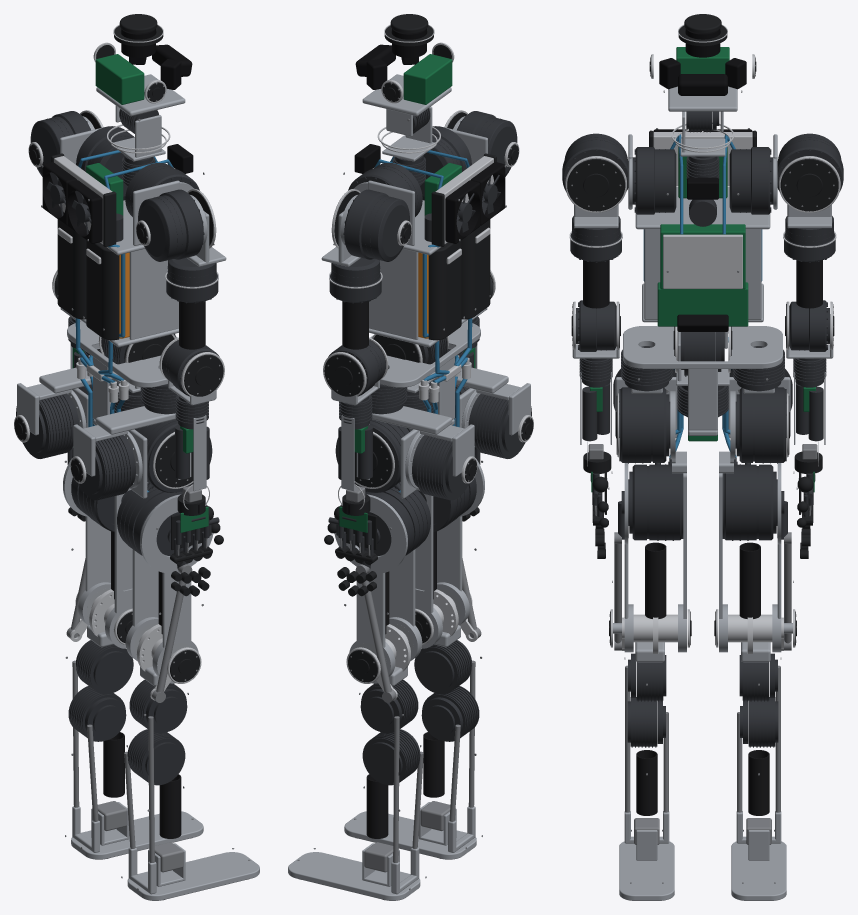
File: kestrel_k1_interior.glb
3 views of the same model, side by side, from view 1: azimuth 30°, elevation 25°; view 2: azimuth 150°, elevation 25°; view 3: azimuth 270°, elevation 25° (orthographic).
Visible parts, largest first — view 1: r_shoulder__act_shoulder_roll_KH25, r_thigh__frame_thigh_plate_lateral, torso__frame_battery_rail_R, r_foot__frame_foot_plate, torso__joint_battery_endcap_R, pelvis__frame_pelvis_bowl, r_hip__act_hip_roll_KA110P, l_thigh__frame_thigh_plate_lateral, torso__joint_battery_endcap_L, r_hip__frame_yaw_roll_yoke, l_hip__act_hip_roll_KA110P, l_shank__act_ankle_B_KA90P (+59 smaller); view 2: l_shoulder__act_shoulder_roll_KH25, l_thigh__frame_thigh_plate_lateral, torso__frame_battery_rail_L, l_foot__frame_foot_plate, torso__joint_battery_endcap_L, pelvis__frame_pelvis_bowl, l_hip__act_hip_roll_KA110P, r_thigh__frame_thigh_plate_lateral, torso__joint_battery_endcap_R, l_hip__frame_yaw_roll_yoke, r_hip__act_hip_roll_KA110P, r_shank__act_ankle_B_KA90P (+59 smaller); view 3: pelvis__frame_pelvis_bowl, torso__alu_thor_coldplate, l_thigh__act_knee_KA130K, r_thigh__act_knee_KA130K, l_hip__act_hip_pitch_KA130H, r_hip__act_hip_pitch_KA130H, torso__pcb_pdu_bms, torso__act_shoulder_pitch_KH25_L, torso__act_shoulder_pitch_KH25_R, torso__frame_spine_plate, l_foot__frame_foot_plate, r_foot__frame_foot_plate (+56 smaller).
Boxes of the visible parts, bbox=[...] form: r_shoulder__act_shoulder_roll_KH25: bbox=[138, 189, 204, 261]; r_thigh__frame_thigh_plate_lateral: bbox=[140, 494, 213, 683]; torso__frame_battery_rail_R: bbox=[129, 249, 178, 339]; r_foot__frame_foot_plate: bbox=[127, 852, 259, 900]; torso__joint_battery_endcap_R: bbox=[86, 240, 119, 340]; pelvis__frame_pelvis_bowl: bbox=[67, 321, 177, 425]; r_hip__act_hip_roll_KA110P: bbox=[72, 435, 135, 500]; l_thigh__frame_thigh_plate_lateral: bbox=[63, 458, 110, 625]; torso__joint_battery_endcap_L: bbox=[57, 219, 86, 319]; r_hip__frame_yaw_roll_yoke: bbox=[73, 406, 175, 476]; l_hip__act_hip_roll_KA110P: bbox=[16, 394, 79, 458]; l_shank__act_ankle_B_KA90P: bbox=[68, 686, 126, 741]; l_shoulder__act_shoulder_roll_KH25: bbox=[343, 189, 409, 261]; l_thigh__frame_thigh_plate_lateral: bbox=[334, 494, 407, 683]; torso__frame_battery_rail_L: bbox=[369, 249, 418, 339]; l_foot__frame_foot_plate: bbox=[288, 852, 420, 900]; torso__joint_battery_endcap_L: bbox=[428, 240, 461, 340]; pelvis__frame_pelvis_bowl: bbox=[370, 321, 480, 425]; l_hip__act_hip_roll_KA110P: bbox=[412, 435, 475, 500]; r_thigh__frame_thigh_plate_lateral: bbox=[437, 459, 484, 625]; torso__joint_battery_endcap_R: bbox=[461, 219, 490, 319]; l_hip__frame_yaw_roll_yoke: bbox=[372, 406, 474, 476]; r_hip__act_hip_roll_KA110P: bbox=[468, 394, 531, 458]; r_shank__act_ankle_B_KA90P: bbox=[421, 686, 479, 741]; pelvis__frame_pelvis_bowl: bbox=[623, 326, 782, 435]; torso__alu_thor_coldplate: bbox=[663, 234, 742, 288]; l_thigh__act_knee_KA130K: bbox=[722, 458, 777, 540]; r_thigh__act_knee_KA130K: bbox=[628, 458, 683, 540]; l_hip__act_hip_pitch_KA130H: bbox=[735, 387, 786, 463]; r_hip__act_hip_pitch_KA130H: bbox=[619, 387, 670, 463]; torso__pcb_pdu_bms: bbox=[657, 282, 748, 326]; torso__act_shoulder_pitch_KH25_L: bbox=[729, 147, 773, 214]; torso__act_shoulder_pitch_KH25_R: bbox=[632, 147, 676, 214]; torso__frame_spine_plate: bbox=[644, 229, 761, 319]; l_foot__frame_foot_plate: bbox=[731, 841, 786, 900]; r_foot__frame_foot_plate: bbox=[619, 841, 674, 900].
Size of the model in its own units: 379 by 1738 by 527.
